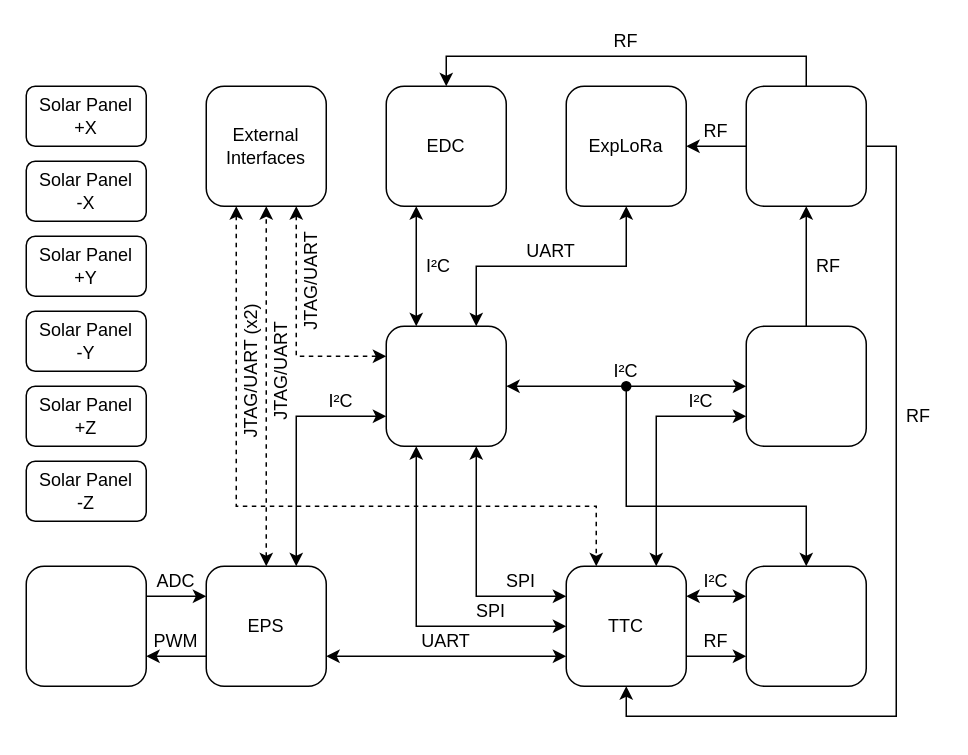
The diagram is 968 pixels wide and 755 high, and some of its shapes have lost their labels. The shapes that lost their labels are listed below. From the top down, each one's box as (x1, y1, x2, y2) in pixels, then its label:
(745, 85, 866, 206): RF Splitter
(385, 325, 506, 446): OBDH
(745, 325, 866, 446): Antenna Module (401 MHz)
(25, 565, 146, 686): Battery Module
(745, 565, 866, 686): Antenna Module (468 MHz)
